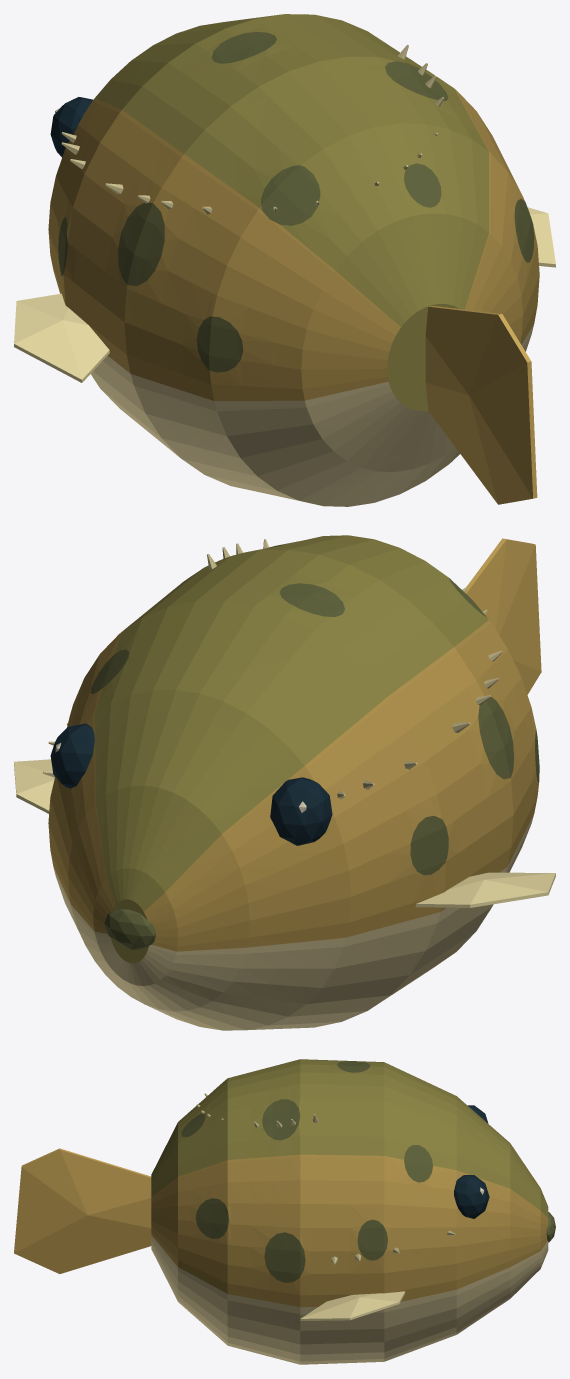
File: wild_puffer.glb
3 views of the same model, one above another, from view 1: azimuth 30°, elevation 25°; view 2: azimuth 150°, elevation 25°; view 3: azimuth 270°, elevation 25° (orthographic). The views are drawn at different scales.
Visible parts, largest first — view 1: round puffer skin with inset spots, short puffer tail, small steering fan, small steering fan.001; view 2: round puffer skin with inset spots, short puffer tail, small steering fan, small steering fan.001; view 3: round puffer skin with inset spots, short puffer tail, small steering fan.001.
Part boxes in pixels (x1,y1,x2,y2): round puffer skin with inset spots: [48, 14, 539, 506]; short puffer tail: [425, 305, 537, 504]; small steering fan: [14, 293, 109, 382]; small steering fan.001: [527, 207, 555, 267]; round puffer skin with inset spots: [43, 535, 539, 1030]; short puffer tail: [465, 538, 541, 694]; small steering fan: [415, 872, 555, 907]; small steering fan.001: [14, 759, 54, 813]; round puffer skin with inset spots: [151, 1059, 555, 1364]; short puffer tail: [14, 1148, 151, 1273]; small steering fan.001: [300, 1291, 405, 1320].
Size of the model in its own units: 0.53 by 0.404 by 0.71.
